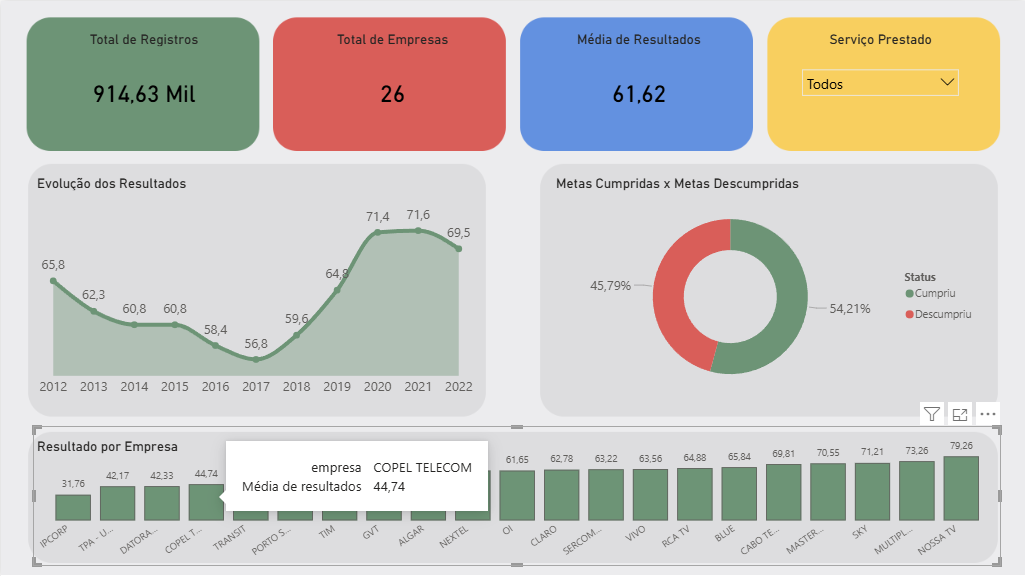

This screenshot's page, from the dashboard's own definition file:
{"tool":"powerbi","page":{"name":"Dashboard 1","canvas":[1280,720],"ordinal":0},"visuals":[{"type":"areaChart","title":"Evolução dos Resultados","fields":{"Y":["Avg(indicadores_qualidade_anatel.resultados)"],"Category":["indicadores_qualidade_anatel.ano"]},"box":[40,217.5,557.5,285],"z":0},{"type":"donutChart","title":"Metas Cumpridas x Metas Descumpridas","fields":{"Category":["indicadores_qualidade_anatel.Status"],"Y":["CountNonNull(indicadores_qualidade_anatel.Status)"]},"box":[688.8,217.5,538.8,285],"z":1000},{"type":"clusteredColumnChart","fields":{"Y":["Avg(indicadores_qualidade_anatel.resultados)"],"Category":["indicadores_qualidade_anatel.empresa"]},"box":[40,531.7,1210,175],"z":2000},{"type":"card","title":"Total de Registros","fields":{"Values":["CountNonNull(indicadores_qualidade_anatel.resultados)"]},"box":[54.3,37.1,250,133.6],"z":3000},{"type":"card","title":"Total de Empresas","fields":{"Values":["Count(indicadores_qualidade_anatel.empresa)"]},"box":[380.7,37.1,216.4,133.6],"z":4000},{"type":"card","title":"Média de Resultados","fields":{"Values":["Avg(indicadores_qualidade_anatel.resultados)"]},"box":[688.6,37.1,217.1,133.6],"z":5000},{"type":"slicer","title":"Serviço Prestado","fields":{"Values":["indicadores_qualidade_anatel.servico"]},"box":[991.4,37.1,216.4,133.6],"z":6000},{"type":"clusteredColumnChart","title":"Resultado por Empresa","fields":{"Category":["indicadores_qualidade_anatel.ano"]},"box":[40,546.7,300,173.3],"z":6001}]}

Visuals, with their boxes in screenshot pixels (x1, y1, x2, y2), scaled from the page's 1280x720 canvas onto the 1025x576 screenshot:
"Evolução dos Resultados" areaChart: locate(32, 174, 478, 402)
"Metas Cumpridas x Metas Descumpridas" donutChart: locate(552, 174, 983, 402)
clusteredColumnChart - Avg(indicadores_qualidade_anatel.resultados) x indicadores_qualidade_anatel.empresa: locate(32, 425, 1001, 565)
"Total de Registros" card: locate(43, 30, 244, 137)
"Total de Empresas" card: locate(305, 30, 478, 137)
"Média de Resultados" card: locate(551, 30, 725, 137)
"Serviço Prestado" slicer: locate(794, 30, 967, 137)
"Resultado por Empresa" clusteredColumnChart: locate(32, 437, 272, 575)
